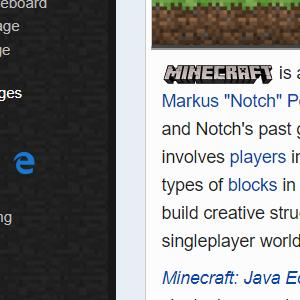edge: (13, 151, 35, 175)
